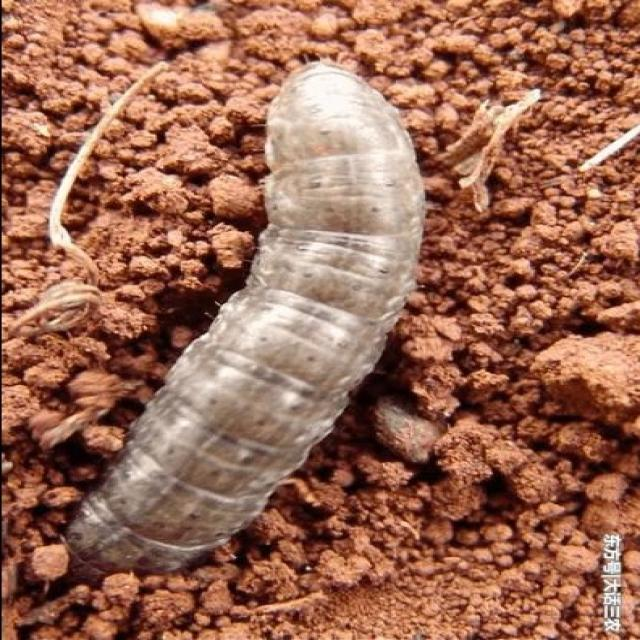black cutworm: (61, 57, 439, 579)
